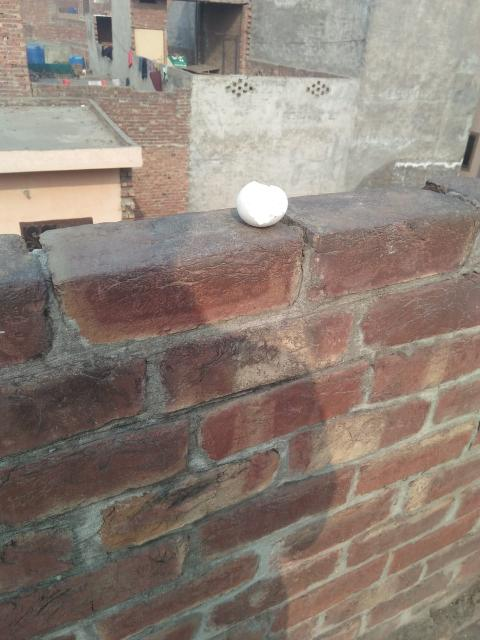Roto: (238, 180, 291, 229)
